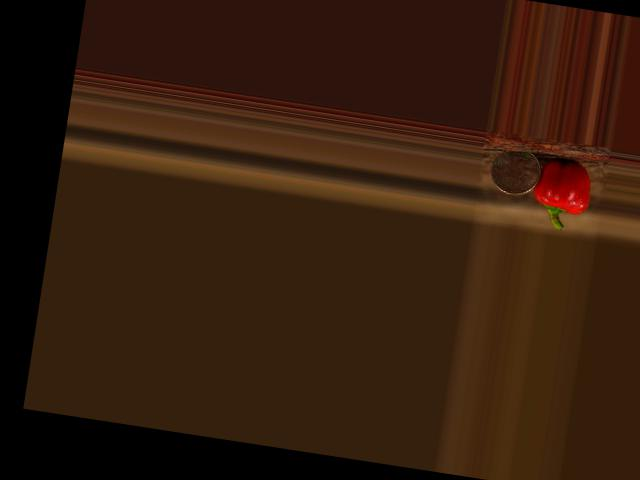bell_pepper: (530, 154, 595, 233)
